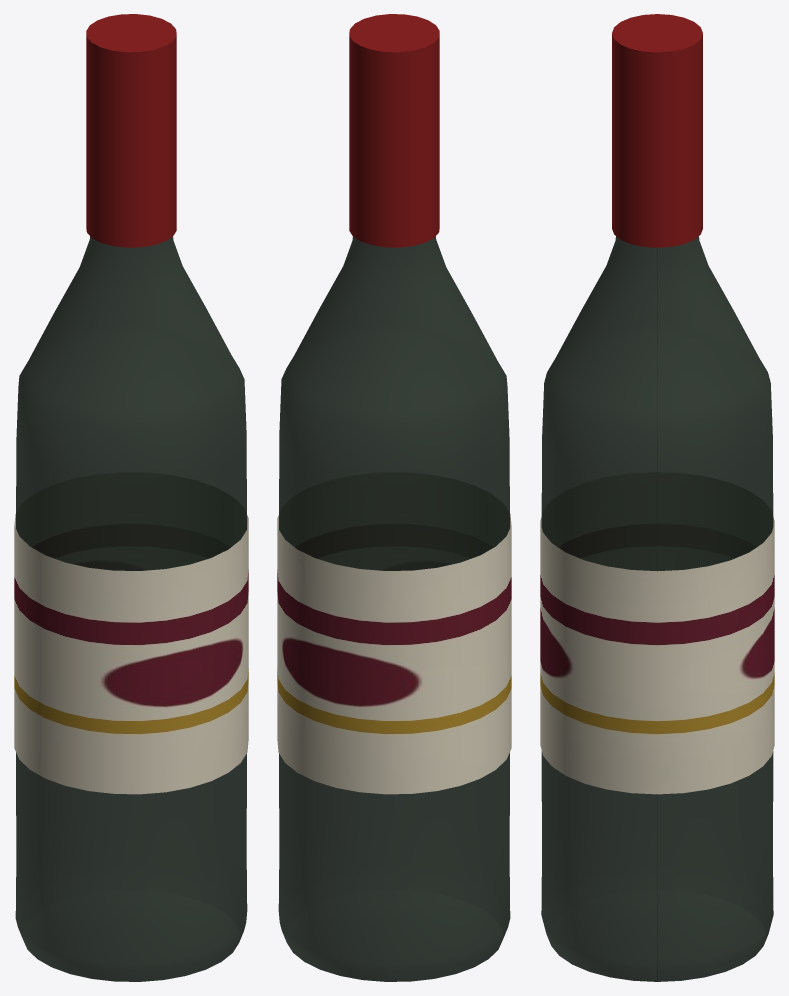
Rendered from bottle_wine_red_bordeaux.glb.
3 views of the same model, side by side, from view 1: azimuth 30°, elevation 25°; view 2: azimuth 150°, elevation 25°; view 3: azimuth 270°, elevation 25° (orthographic).
Visible parts, largest first — view 1: bottle_wine_red_bordeaux; view 2: bottle_wine_red_bordeaux; view 3: bottle_wine_red_bordeaux.
Part boxes in pixels (box(x1,y1,x2,y2)): bottle_wine_red_bordeaux: box(14, 14, 248, 981); bottle_wine_red_bordeaux: box(277, 14, 511, 981); bottle_wine_red_bordeaux: box(540, 14, 774, 981).
Bounding box in the file's own units: 0.0762 × 0.3254 × 0.0762.
Materials: 3 (1 with a texture image).
